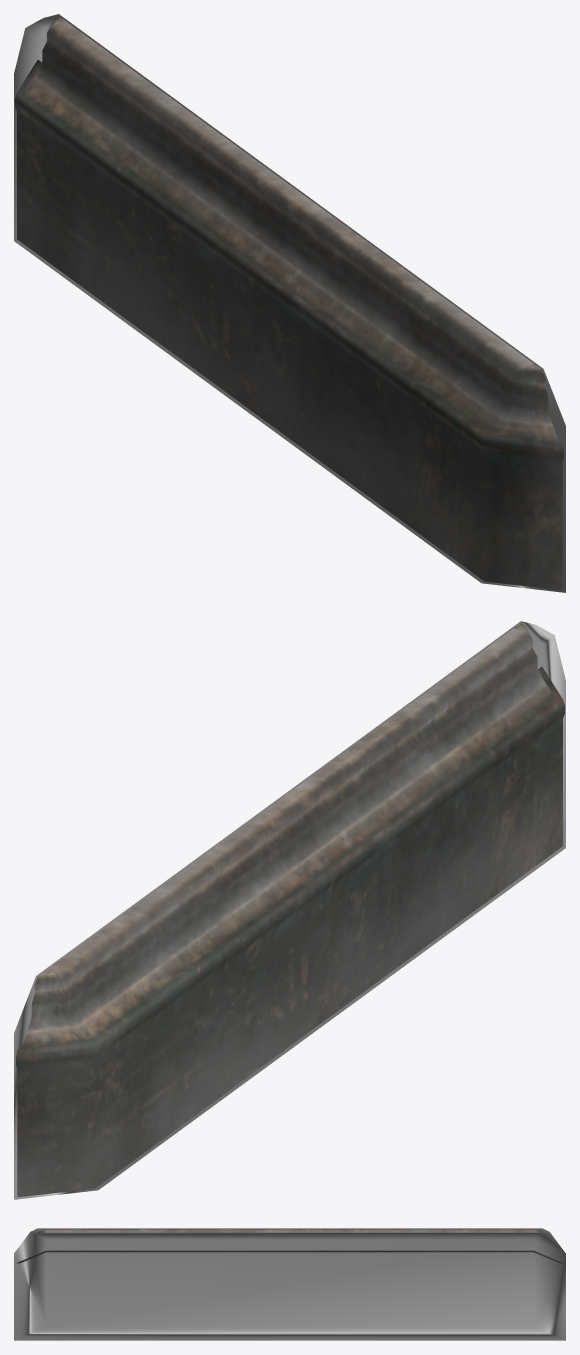
Rendered from SM_Skirting_Front.gltf.
3 views of the same model, one above another, from view 1: azimuth 30°, elevation 25°; view 2: azimuth 150°, elevation 25°; view 3: azimuth 270°, elevation 25° (orthographic). The views are drawn at different scales.
Parts seen in each view (by area): view 1: SM_Skirting_Front_LOD0, SM_Skirting_Front_ConvexHulls; view 2: SM_Skirting_Front_LOD0, SM_Skirting_Front_ConvexHulls; view 3: SM_Skirting_Front_ConvexHulls, SM_Skirting_Front_LOD0.
Part boxes in pixels (x1,y1,x2,y2): SM_Skirting_Front_LOD0: (15, 15, 563, 590); SM_Skirting_Front_ConvexHulls: (14, 14, 565, 592); SM_Skirting_Front_LOD0: (16, 622, 564, 1197); SM_Skirting_Front_ConvexHulls: (14, 621, 565, 1199); SM_Skirting_Front_ConvexHulls: (14, 1228, 565, 1340); SM_Skirting_Front_LOD0: (16, 1229, 563, 1263).
Size of what is drawn, in the model's own units: 0.0583 by 0.2158 by 0.997.
